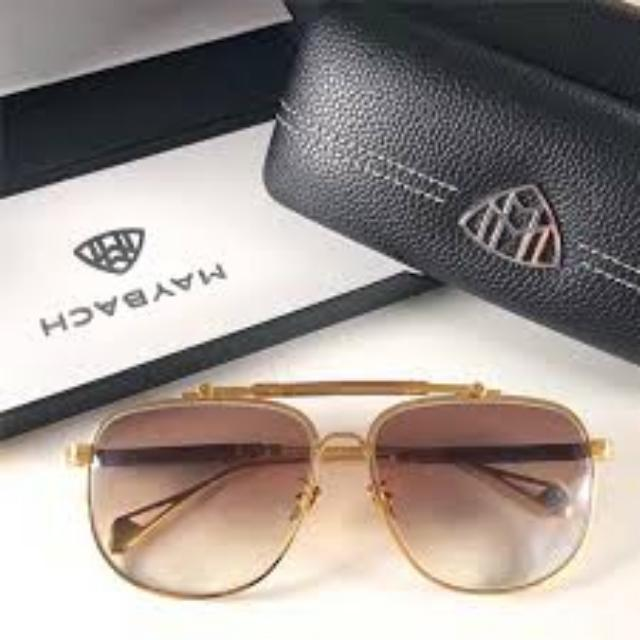sunglasses: (54, 362, 640, 604)
